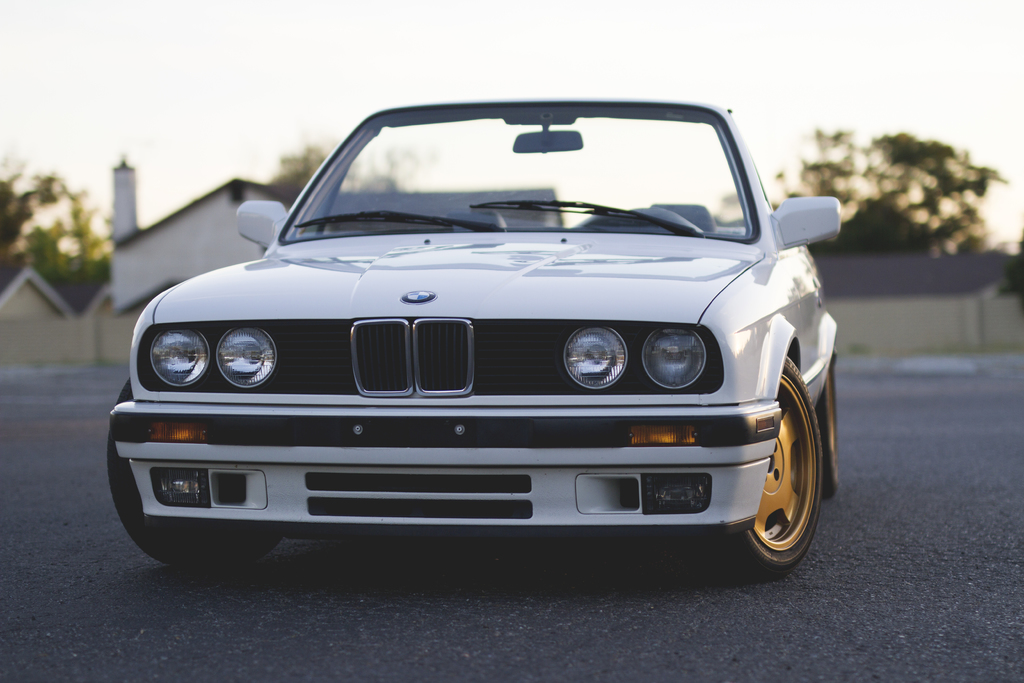Tree: (712, 134, 1008, 256), (0, 155, 114, 281), (268, 137, 415, 192)
